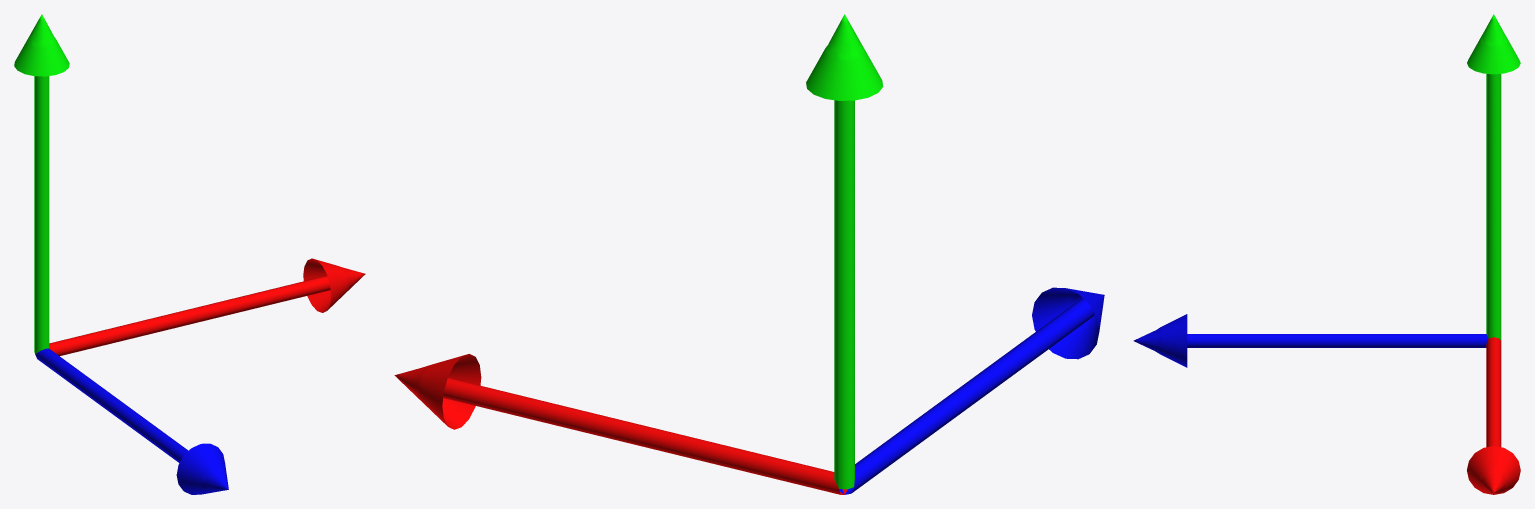
Rendered from coordinate_system.obj.
3 renders of one model, left to right at view 1: azimuth 30°, elevation 25°; view 2: azimuth 150°, elevation 25°; view 3: azimuth 270°, elevation 25°, orthographic. The views are drawn at different scales.
Parts seen in each view (by area): view 1: nurbsToPoly7, nurbsToPoly4, nurbsToPoly2, nurbsToPoly1, nurbsToPoly5, nurbsToPoly8; view 2: nurbsToPoly7, nurbsToPoly4, nurbsToPoly2, nurbsToPoly5, nurbsToPoly8, nurbsToPoly1; view 3: nurbsToPoly4, nurbsToPoly2, nurbsToPoly8, nurbsToPoly5, nurbsToPoly7, nurbsToPoly1.
Part boxes in pixels (x1,y1,x2,y2): nurbsToPoly7: (49, 275, 330, 355); nurbsToPoly4: (34, 76, 49, 354); nurbsToPoly2: (35, 348, 188, 462); nurbsToPoly1: (176, 443, 228, 494); nurbsToPoly5: (14, 14, 69, 76); nurbsToPoly8: (303, 258, 365, 312); nurbsToPoly7: (443, 378, 847, 494); nurbsToPoly4: (834, 100, 854, 489); nurbsToPoly2: (839, 298, 1094, 494); nurbsToPoly5: (806, 14, 883, 100); nurbsToPoly8: (394, 354, 481, 429); nurbsToPoly1: (1032, 287, 1104, 359); nurbsToPoly4: (1486, 74, 1501, 340); nurbsToPoly2: (1187, 334, 1488, 347); nurbsToPoly8: (1467, 446, 1520, 494); nurbsToPoly5: (1467, 14, 1520, 74); nurbsToPoly7: (1486, 337, 1501, 447); nurbsToPoly1: (1133, 314, 1187, 367).
Size of the model in its own units: 1.07 by 1.07 by 1.07.
